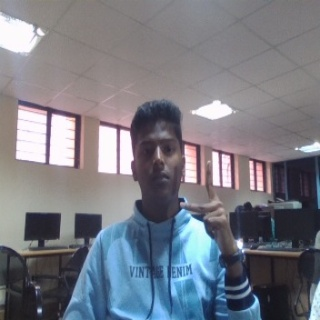Okay: (178, 160, 235, 251)
